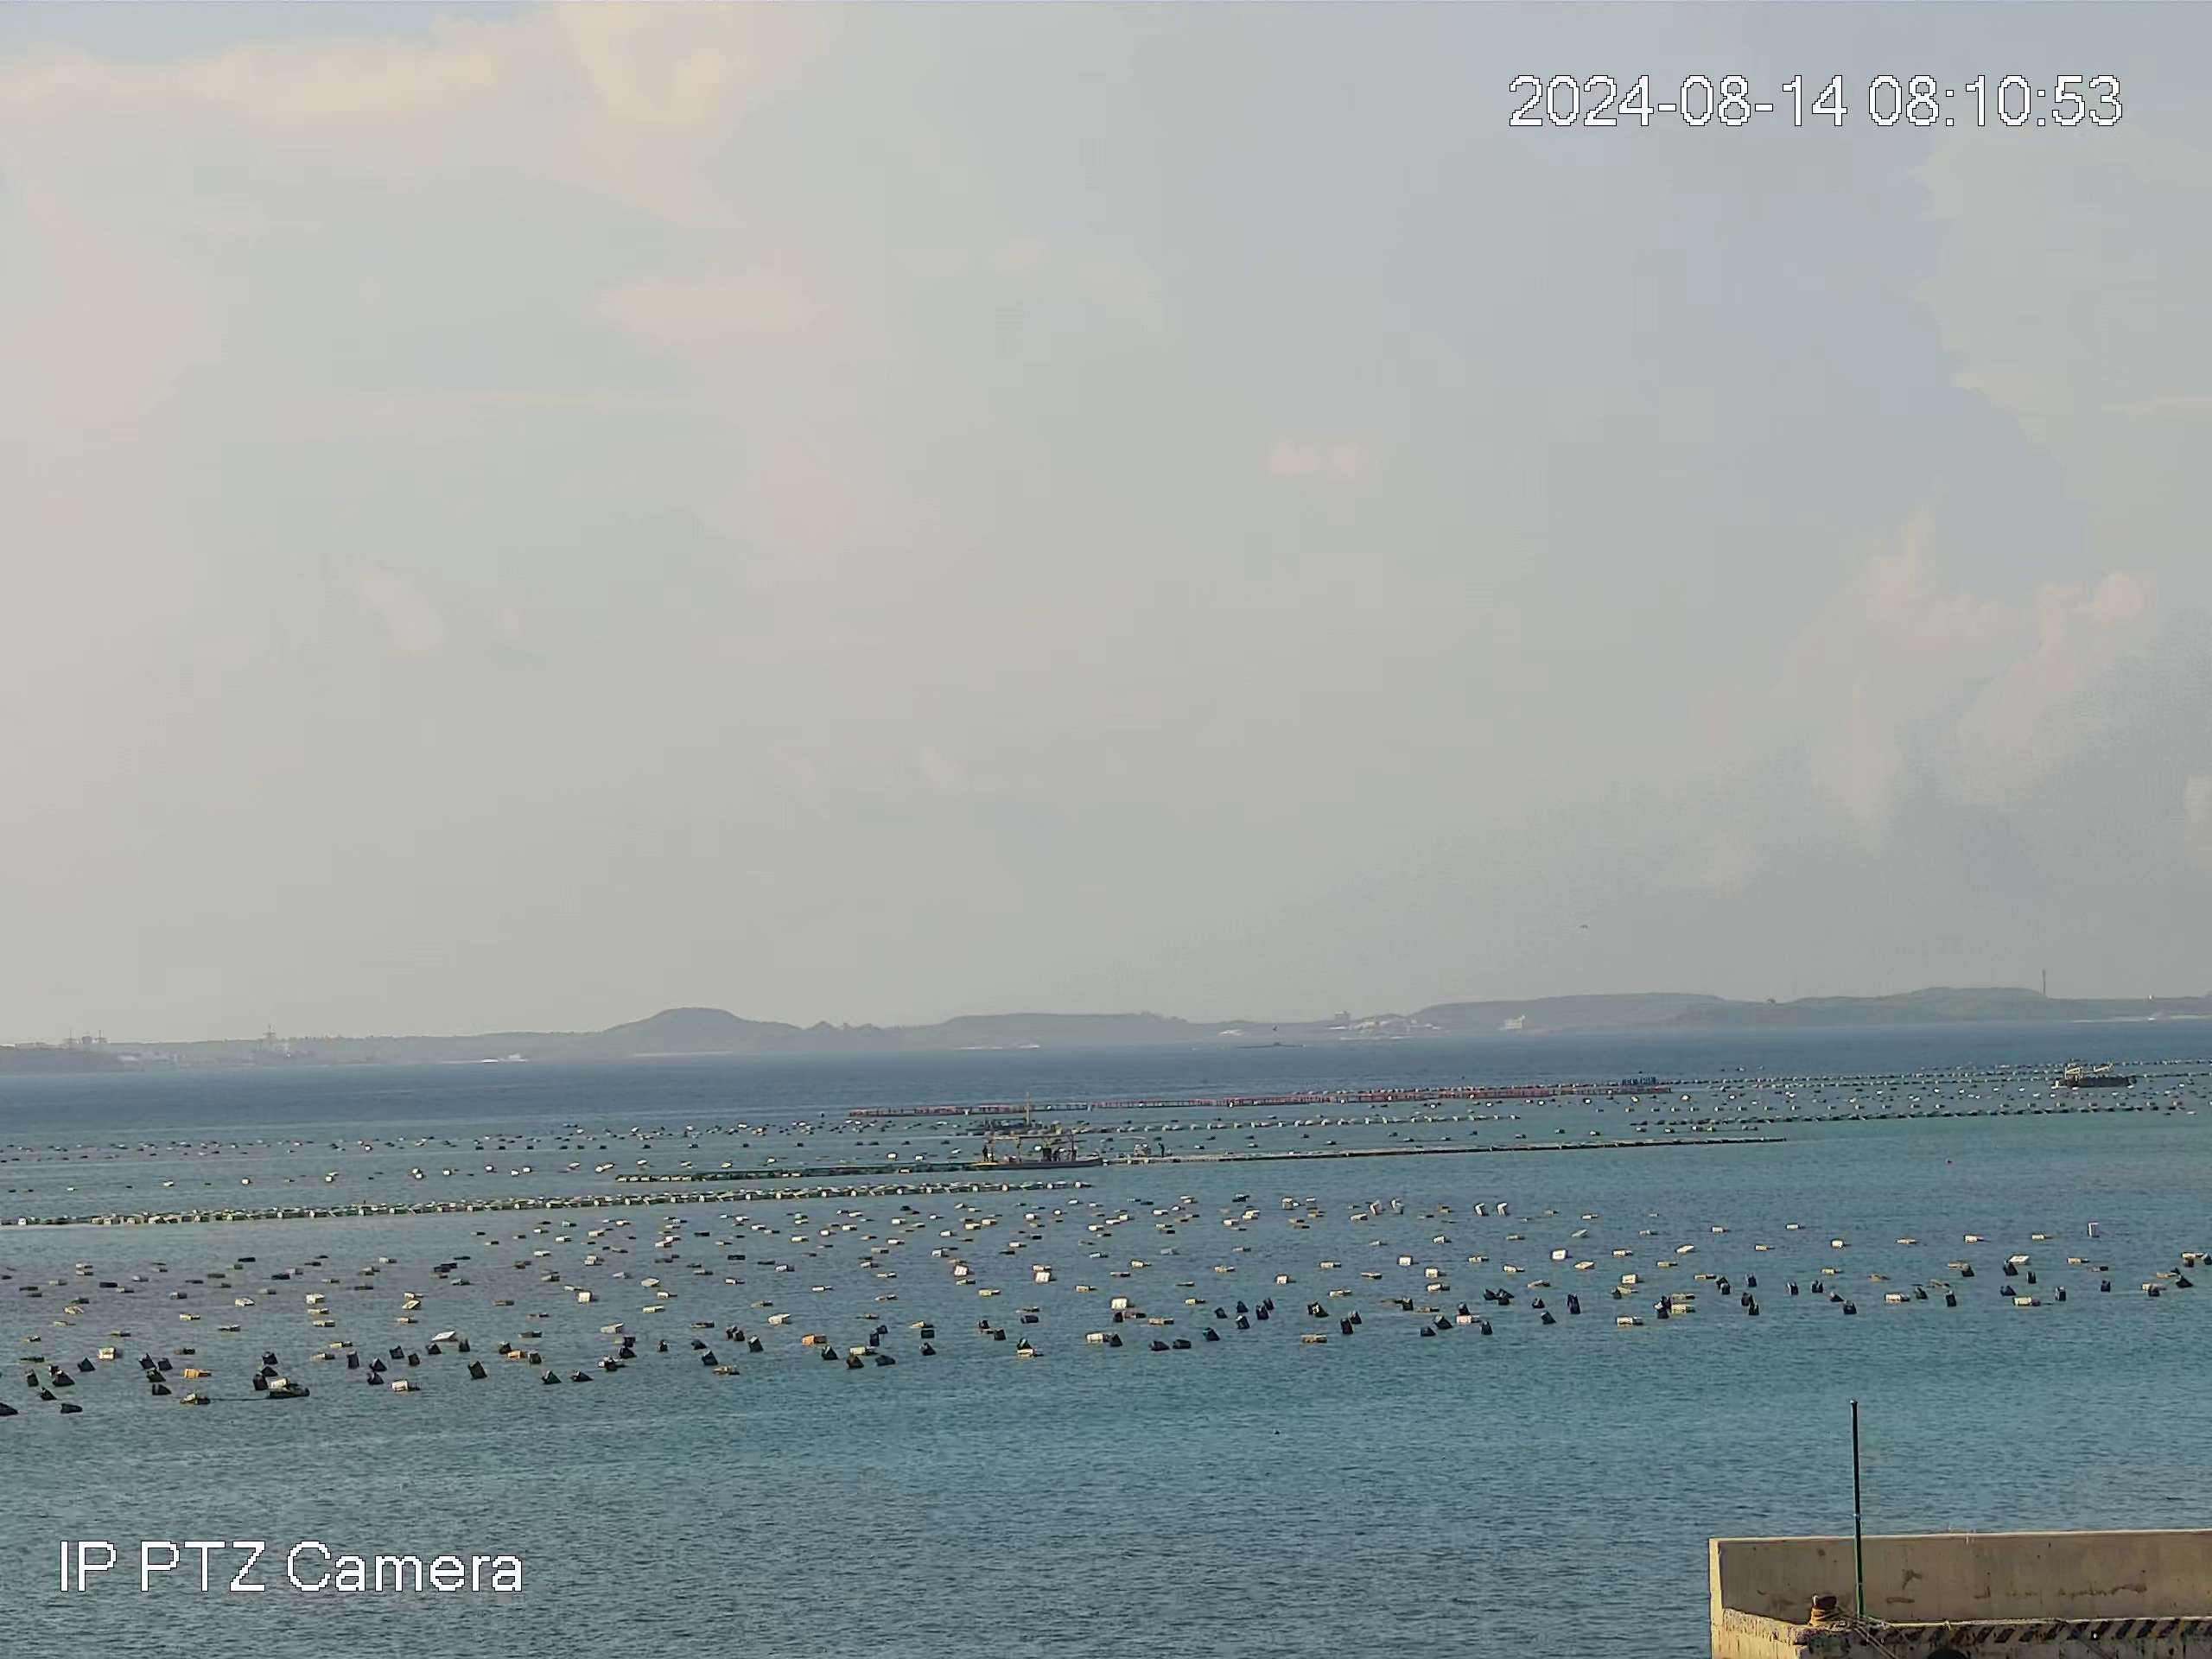boat: (974, 1134, 1096, 1166), (2054, 1065, 2139, 1087)
